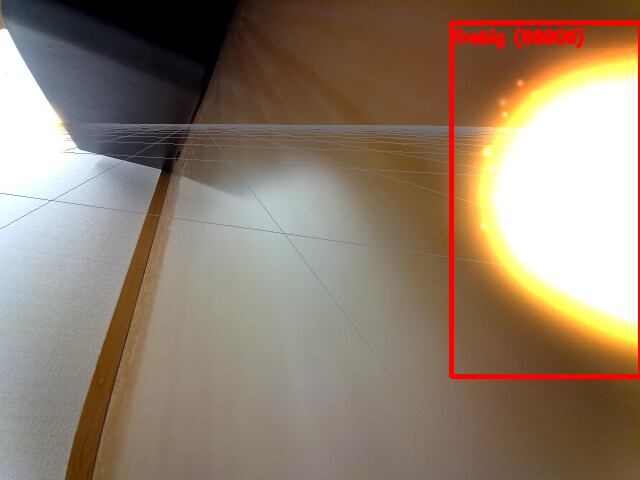firebig: (451, 22, 640, 376)
